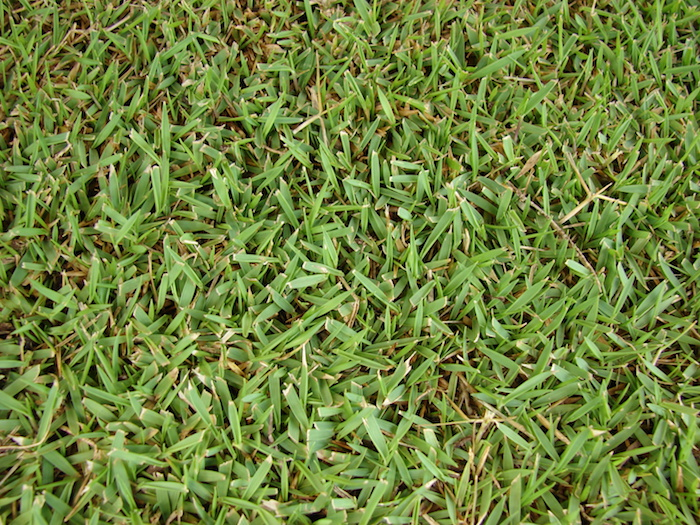grass: (1, 2, 700, 525)
